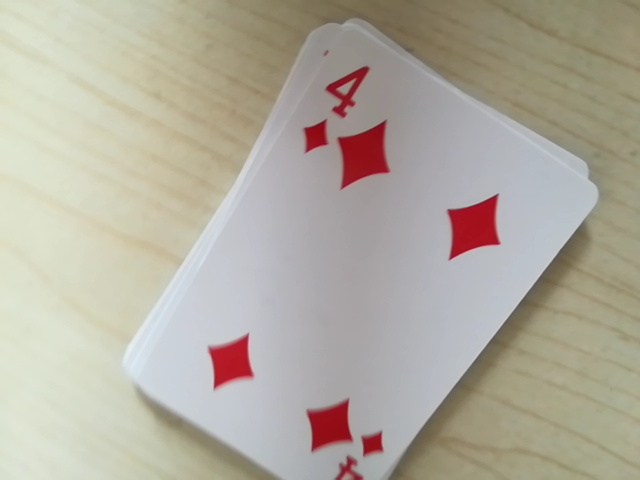fk 4: (294, 51, 379, 160), (314, 429, 396, 480)
